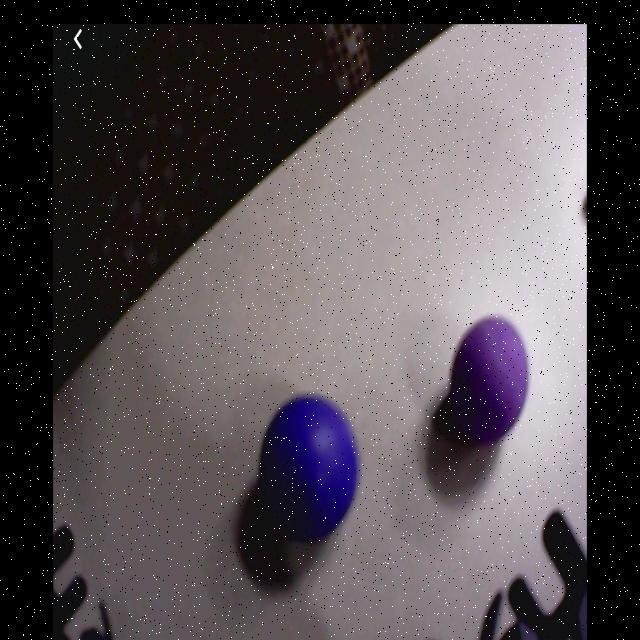ball: (260, 394, 358, 542), (449, 316, 528, 444)
